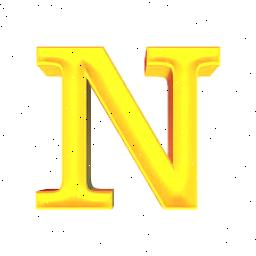n: (32, 40, 222, 216)
